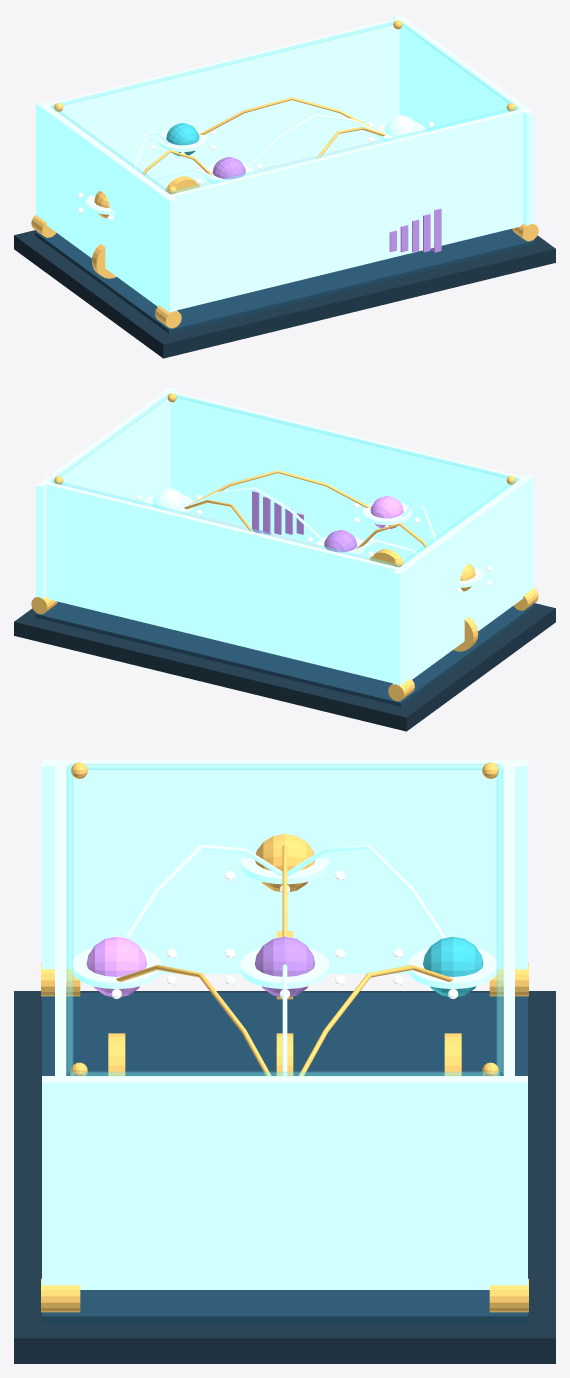
Rendered from history-search-v001.glb.
The picture shows the model from 3 angles, top to bottom: view 1: azimuth 30°, elevation 25°; view 2: azimuth 150°, elevation 25°; view 3: azimuth 270°, elevation 25°; orthographic projection. The views are drawn at different scales.
Parts seen in each view (by area): view 1: GEO-shell-crossbar.005, GEO-shell-crossbar.004, GEO-shell-rail.004, GEO-shell-base.002, GEO-shell-deck.002, GEO-shell-rail.005, GEO-shell-glass-edge.008, GEO-shell-glass-edge.009, GEO-branch-a-node, GEO-search-branch-03, GEO-evaluation-node, GEO-branch-b-node (+5 smaller); view 2: GEO-shell-crossbar.004, GEO-shell-crossbar.005, GEO-shell-rail.004, GEO-shell-base.002, GEO-shell-deck.002, GEO-shell-rail.005, GEO-shell-glass-edge.009, GEO-shell-glass-edge.008, GEO-branch-c-node, GEO-search-branch-05, GEO-evaluation-node, GEO-branch-b-node (+5 smaller); view 3: GEO-shell-rail.005, GEO-shell-rail.004, GEO-shell-deck.002, GEO-shell-base.002, GEO-shell-crossbar.004, GEO-shell-crossbar.005, GEO-shell-glass-edge.010, GEO-branch-a-node, GEO-branch-c-node, GEO-branch-b-node, GEO-shell-glass-edge.008, GEO-shell-glass-edge.009 (+16 smaller).
Boxes of the visible parts, box(x1,y1,x2,y2) form: GEO-shell-crossbar.005: box(165, 108, 528, 310); GEO-shell-crossbar.004: box(41, 17, 404, 190); GEO-shell-rail.004: box(36, 101, 176, 312); GEO-shell-base.002: box(14, 230, 555, 358); GEO-shell-deck.002: box(35, 228, 534, 333); GEO-shell-rail.005: box(393, 14, 533, 225); GEO-shell-glass-edge.008: box(51, 21, 393, 107); GEO-shell-glass-edge.009: box(170, 107, 518, 193); GEO-branch-a-node: box(166, 123, 199, 156); GEO-search-branch-03: box(199, 97, 383, 134); GEO-evaluation-node: box(384, 115, 417, 137); GEO-branch-b-node: box(212, 157, 245, 179); GEO-shell-crossbar.004: box(41, 481, 404, 683); GEO-shell-crossbar.005: box(165, 390, 528, 563); GEO-shell-rail.004: box(393, 474, 533, 685); GEO-shell-base.002: box(14, 603, 555, 731); GEO-shell-deck.002: box(35, 601, 534, 706); GEO-shell-rail.005: box(36, 387, 176, 598); GEO-shell-glass-edge.009: box(176, 394, 518, 480); GEO-shell-glass-edge.008: box(51, 480, 399, 566); GEO-branch-c-node: box(370, 496, 403, 529); GEO-search-branch-05: box(186, 470, 370, 507); GEO-evaluation-node: box(152, 488, 185, 510); GEO-branch-b-node: box(324, 530, 357, 552); GEO-shell-rail.005: box(42, 1076, 527, 1289); GEO-shell-rail.004: box(42, 760, 527, 973); GEO-shell-deck.002: box(42, 992, 527, 1323); GEO-shell-base.002: box(14, 991, 555, 1363); GEO-shell-crossbar.004: box(503, 761, 514, 1081); GEO-shell-crossbar.005: box(55, 761, 66, 1081); GEO-shell-glass-edge.010: box(70, 764, 499, 769); GEO-branch-a-node: box(423, 936, 483, 996); GEO-branch-c-node: box(86, 936, 146, 996); GEO-branch-b-node: box(255, 936, 314, 996); GEO-shell-glass-edge.008: box(497, 764, 502, 1075); GEO-shell-glass-edge.009: box(67, 764, 72, 1075).
Size of the model in its own units: 9.04 by 3.27 by 5.8.
